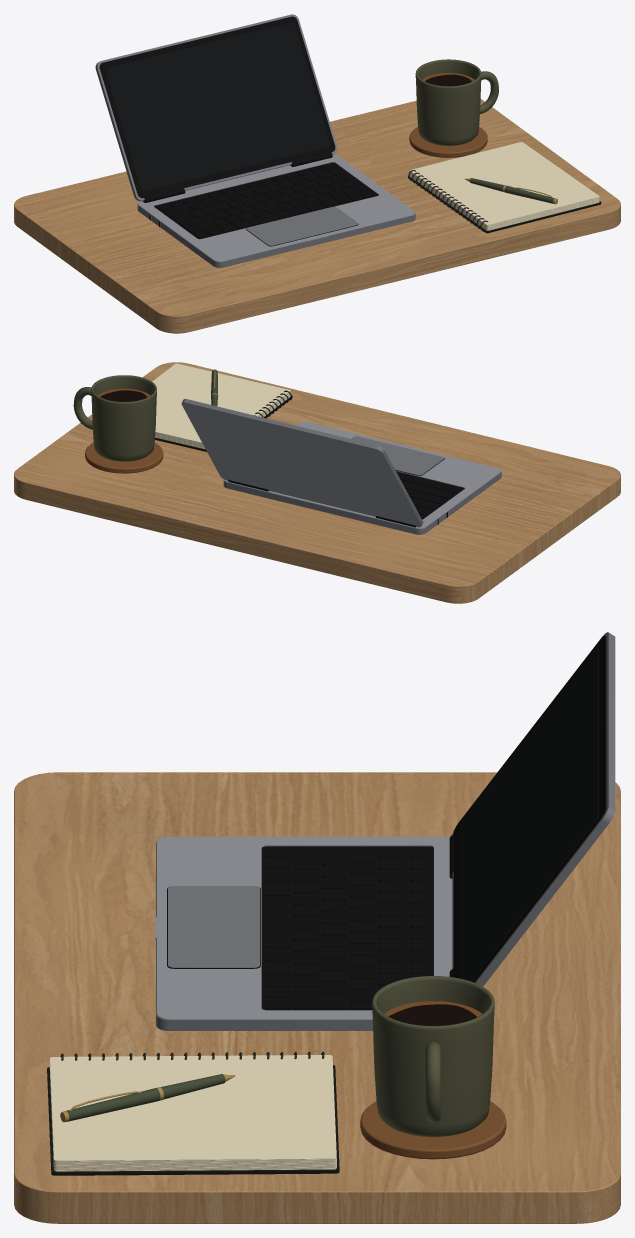
The model's file is Table-Laptop.glb.
The picture shows the model from 3 angles, top to bottom: view 1: azimuth 30°, elevation 25°; view 2: azimuth 150°, elevation 25°; view 3: azimuth 270°, elevation 25°; orthographic projection. The views are drawn at different scales.
Visible parts, largest first — view 1: Solid rounded oak platform__asset.001, Display glass panel__asset.001, Notebook top sheet__asset.001, Laptop deck edge__asset.001, Hollow ceramic mug__asset.001, Display black bezel__asset.001, Trackpad aluminum inset__asset.001, Laptop lower chassis__asset.001, Display aluminum shell__asset.001, Recessed keyboard well__asset.001, Round cork coaster__asset.001, Notebook page block__asset.001 (+3 smaller); view 2: Solid rounded oak platform__asset.001, Display aluminum shell__asset.001, Notebook top sheet__asset.001, Hollow ceramic mug__asset.001, Laptop deck edge__asset.001, Laptop lower chassis__asset.001, Trackpad aluminum inset__asset.001, Round cork coaster__asset.001, Notebook page block__asset.001, Open ceramic handle__asset.001, Coffee surface__asset.001; view 3: Solid rounded oak platform__asset.001, Notebook top sheet__asset.001, Display glass panel__asset.001, Laptop deck edge__asset.001, Hollow ceramic mug__asset.001, Trackpad aluminum inset__asset.001, Recessed keyboard well__asset.001, Display aluminum shell__asset.001, Round cork coaster__asset.001, Display black bezel__asset.001, Notebook page block__asset.001, Laptop lower chassis__asset.001 (+5 smaller).
Boxes of the visible parts, x1=… form: Solid rounded oak platform__asset.001: x1=14, y1=99, x2=620, y2=333; Display glass panel__asset.001: x1=105, y1=23, x2=330, y2=191; Notebook top sheet__asset.001: x1=409, y1=142, x2=599, y2=225; Laptop deck edge__asset.001: x1=138, y1=155, x2=415, y2=261; Hollow ceramic mug__asset.001: x1=415, y1=59, x2=481, y2=145; Display black bezel__asset.001: x1=99, y1=16, x2=335, y2=198; Trackpad aluminum inset__asset.001: x1=246, y1=206, x2=357, y2=245; Laptop lower chassis__asset.001: x1=137, y1=162, x2=415, y2=267; Display aluminum shell__asset.001: x1=95, y1=14, x2=337, y2=201; Recessed keyboard well__asset.001: x1=154, y1=162, x2=378, y2=239; Round cork coaster__asset.001: x1=409, y1=127, x2=487, y2=157; Notebook page block__asset.001: x1=409, y1=171, x2=599, y2=230; Solid rounded oak platform__asset.001: x1=14, y1=362, x2=620, y2=603; Display aluminum shell__asset.001: x1=181, y1=399, x2=423, y2=527; Notebook top sheet__asset.001: x1=152, y1=363, x2=290, y2=442; Hollow ceramic mug__asset.001: x1=91, y1=375, x2=156, y2=461; Laptop deck edge__asset.001: x1=224, y1=422, x2=500, y2=528; Laptop lower chassis__asset.001: x1=223, y1=469, x2=501, y2=534; Trackpad aluminum inset__asset.001: x1=351, y1=436, x2=444, y2=475; Round cork coaster__asset.001: x1=85, y1=442, x2=163, y2=473; Notebook page block__asset.001: x1=155, y1=391, x2=290, y2=449; Open ceramic handle__asset.001: x1=73, y1=387, x2=92, y2=429; Coffee surface__asset.001: x1=100, y1=390, x2=147, y2=401; Solid rounded oak platform__asset.001: x1=14, y1=772, x2=620, y2=1223; Notebook top sheet__asset.001: x1=50, y1=1055, x2=336, y2=1161; Display glass panel__asset.001: x1=460, y1=646, x2=598, y2=981; Laptop deck edge__asset.001: x1=156, y1=836, x2=452, y2=1019; Hollow ceramic mug__asset.001: x1=372, y1=976, x2=494, y2=1136; Trackpad aluminum inset__asset.001: x1=168, y1=886, x2=260, y2=967; Recessed keyboard well__asset.001: x1=261, y1=846, x2=433, y2=1010; Display aluminum shell__asset.001: x1=452, y1=632, x2=615, y2=986; Round cork coaster__asset.001: x1=360, y1=1101, x2=506, y2=1159; Display black bezel__asset.001: x1=453, y1=635, x2=606, y2=982; Notebook page block__asset.001: x1=50, y1=1066, x2=336, y2=1171; Laptop lower chassis__asset.001: x1=156, y1=840, x2=372, y2=1030.
Bounding box in the file's own units: 0.72 × 0.2043 × 0.44.
18 materials, 1 textured.
